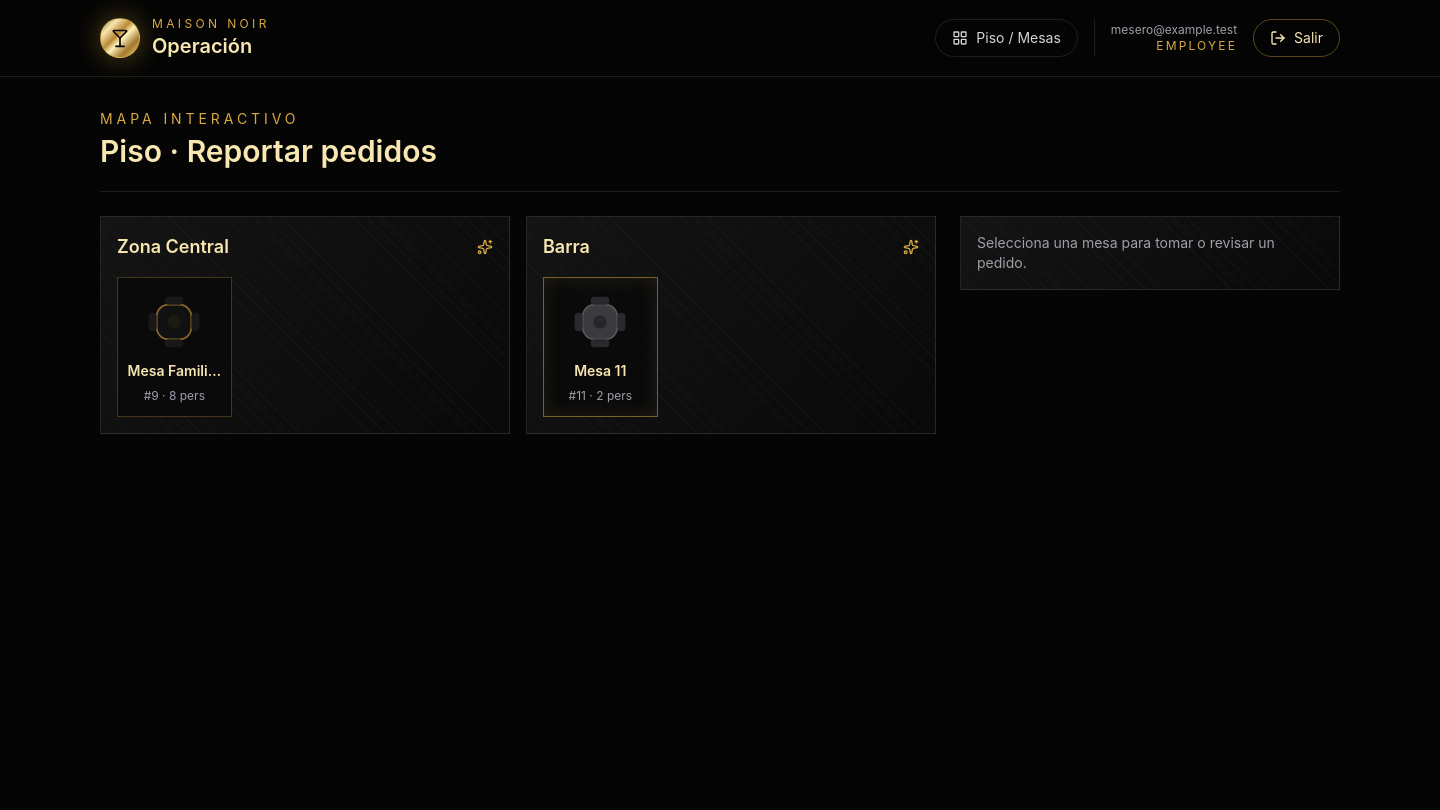
Test: FloorPage (flujo del mesero) › muestra el error de la API al enviar un pedido
Click the button "Mesa Familiar #9 · 8 pers".
click(174, 347)  # box x1=117 y1=276 x2=232 y2=417
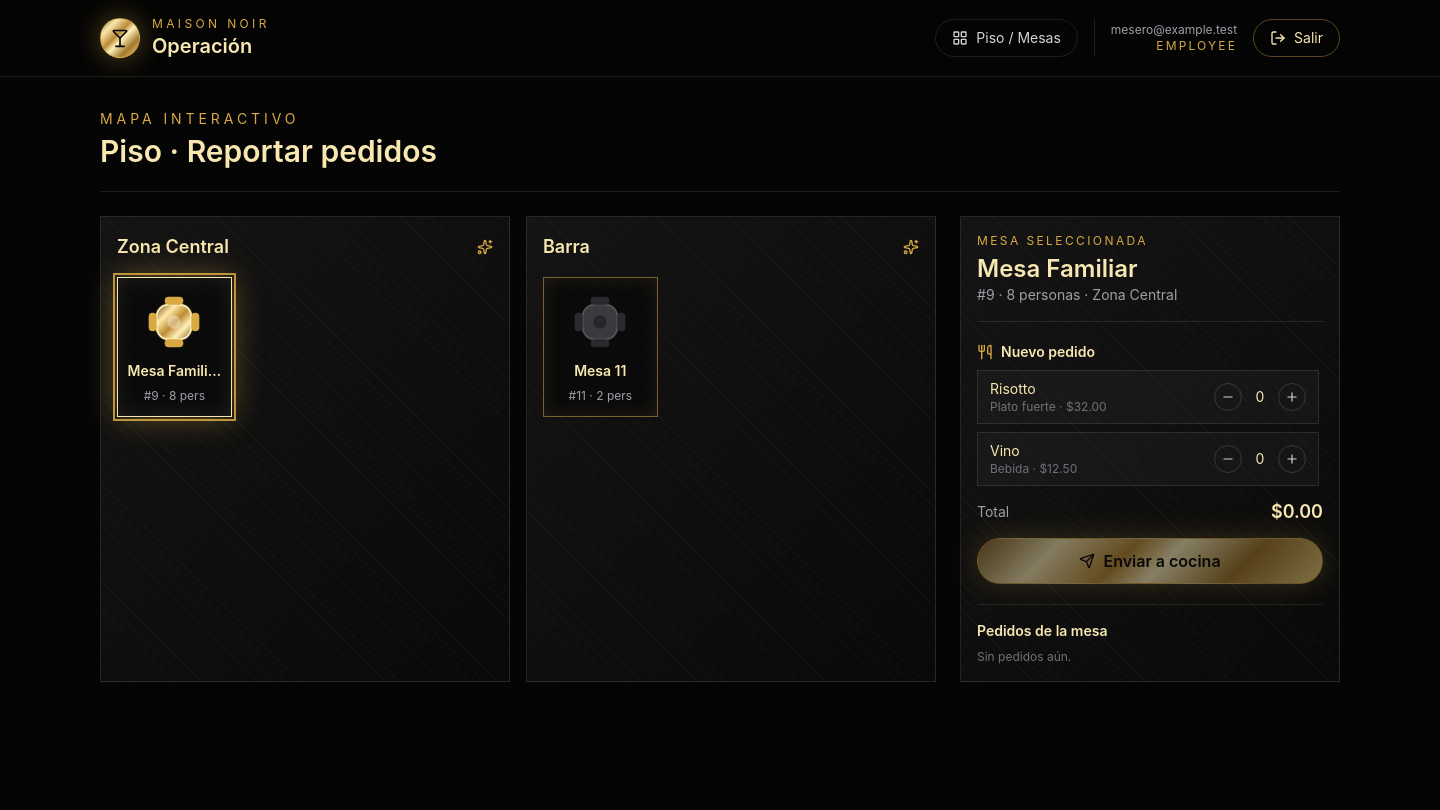
Click the button named "Agregar uno" in the row of "$32.00".
click(1292, 396)  # box x1=1278 y1=382 x2=1306 y2=410
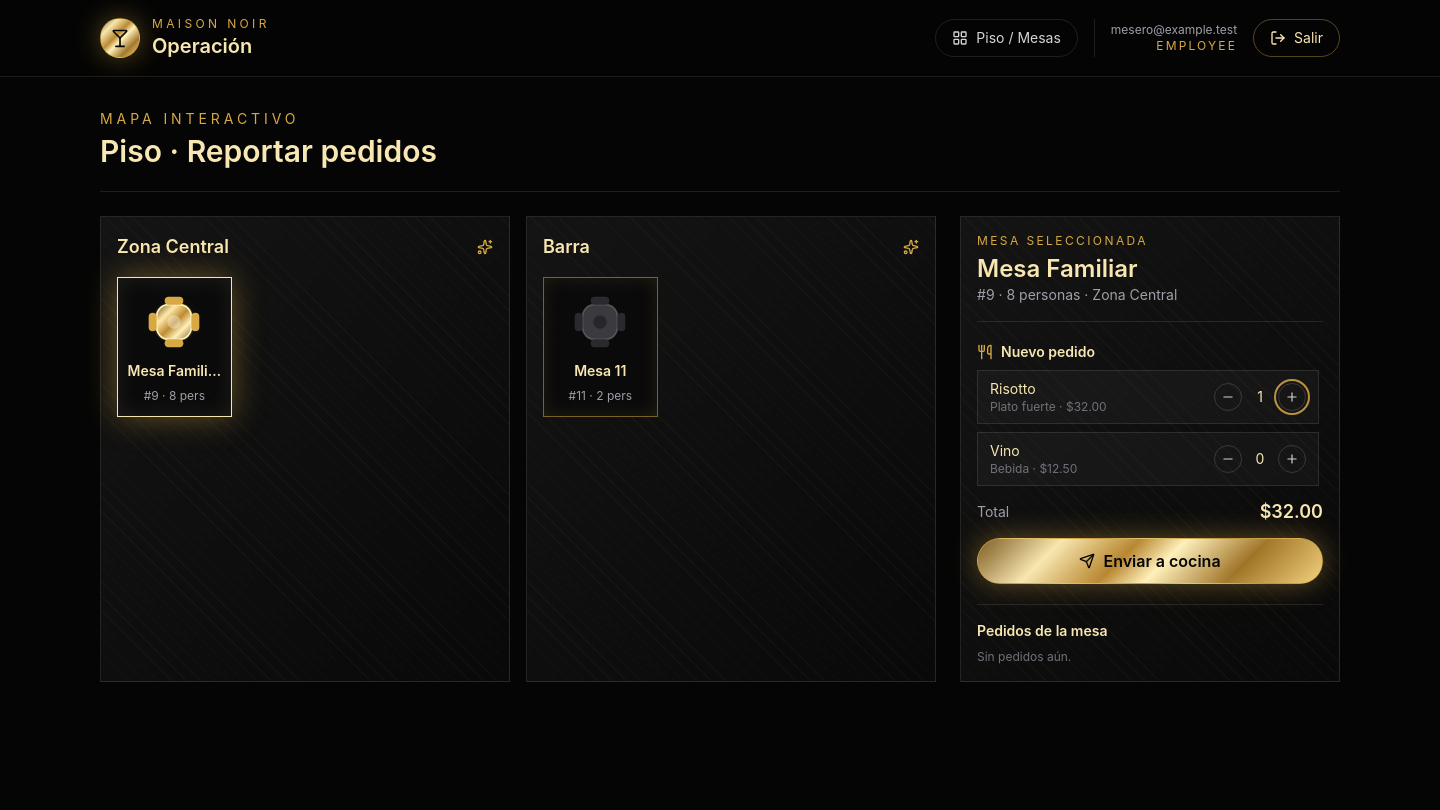
Click the button "Enviar a cocina".
click(1150, 560)  # box x1=977 y1=538 x2=1323 y2=584
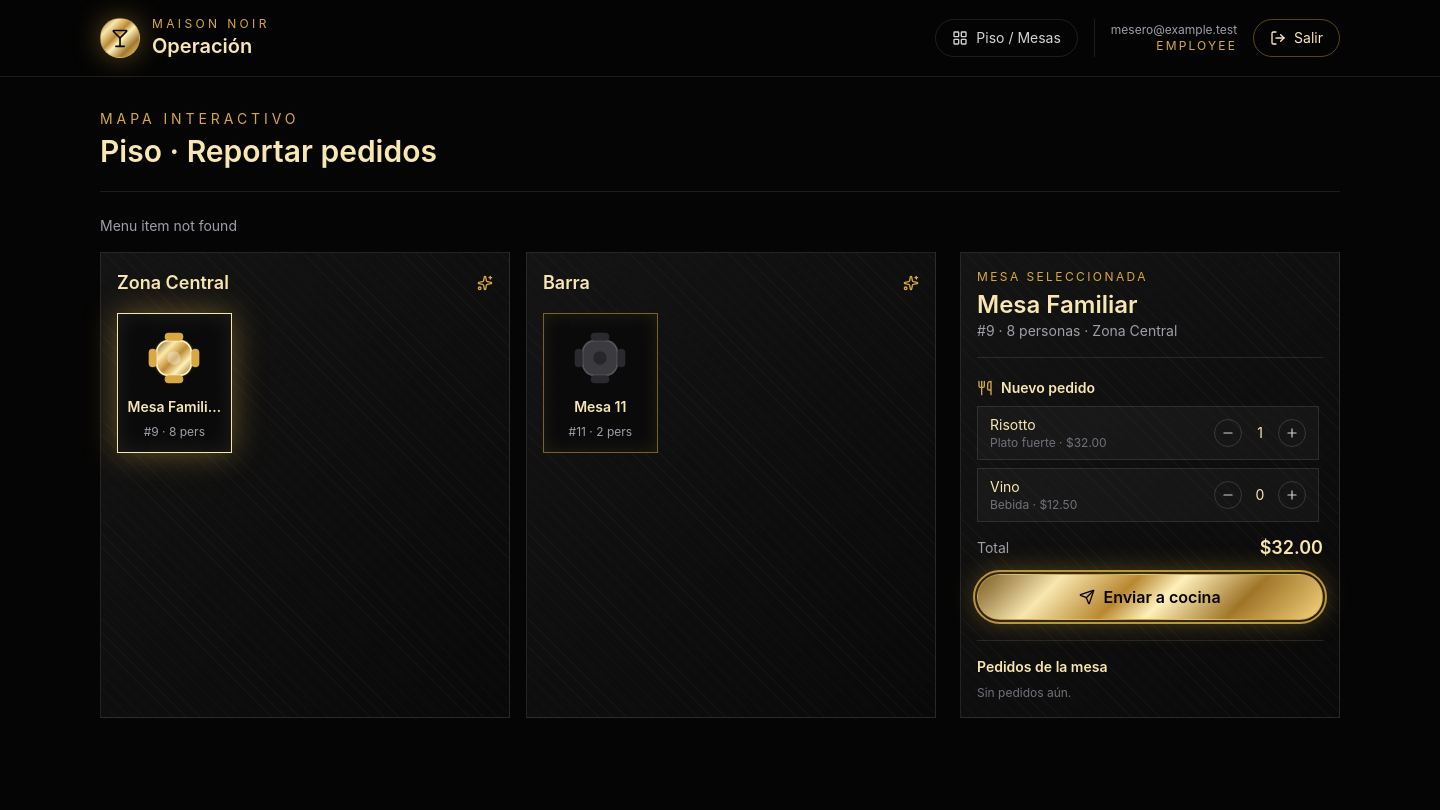
Check: the text "Menu item not found" is shown, box x1=100 y1=216 x2=237 y2=234
